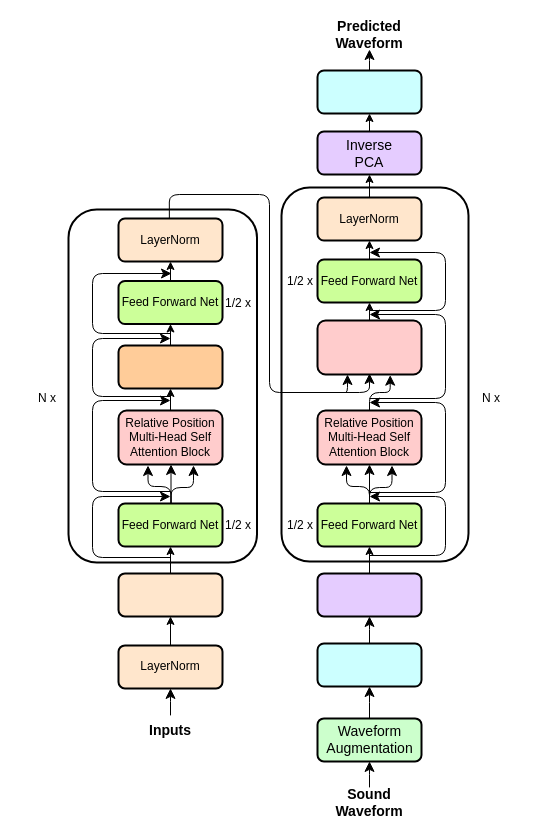
This 538x836 diagram has some shape labels left out. The shapes that lost their labels are listed below. From the top down, each one's box as (x1, y1, x2, y2) in pixels, then its label:
(316, 69, 422, 114): ISTFT
(117, 344, 223, 389): Convolution Block
(316, 319, 422, 375): Multi-Head Self Attention Block
(117, 572, 223, 617): Pointwise Convolution
(316, 572, 422, 617): PCA
(316, 642, 422, 687): Spectrogram
